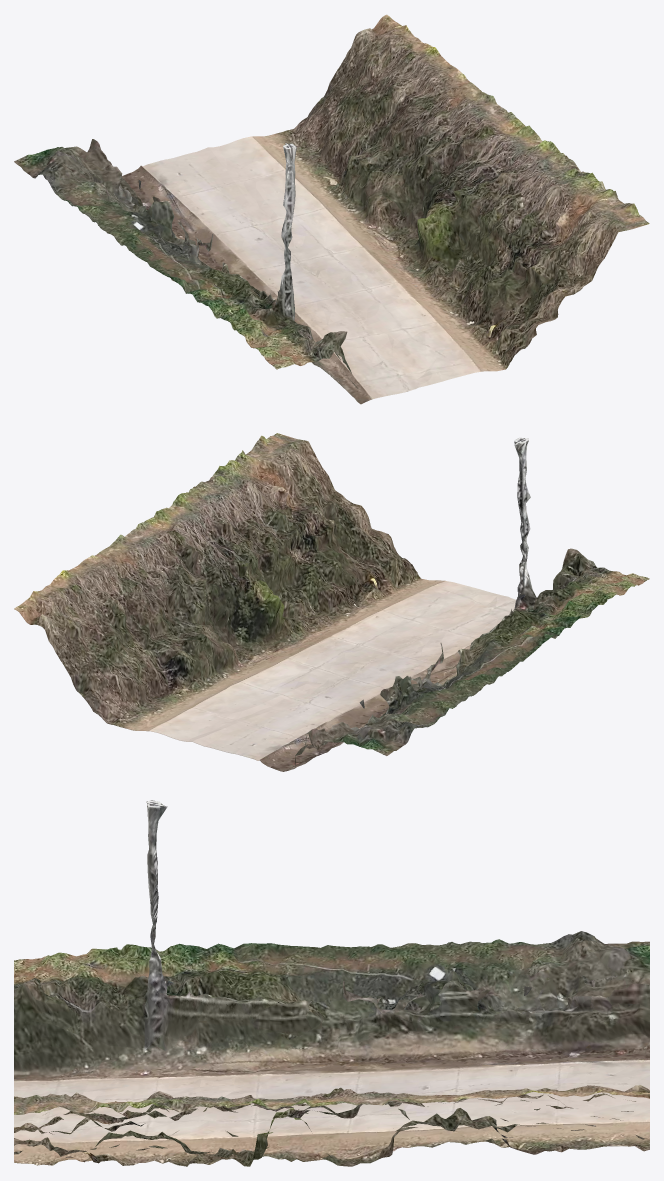
Rendered from BlockBBBY_L21_230.glb.
3 renders of one model, top to bottom at view 1: azimuth 30°, elevation 25°; view 2: azimuth 150°, elevation 25°; view 3: azimuth 270°, elevation 25°, orthographic. The views are drawn at different scales.
Parts seen in each view (by area): view 1: rtc; view 2: rtc; view 3: rtc.
Boxes of the visible parts, x1,y1,x2,y2 form: rtc: (14,14,649,404); rtc: (14,433,649,771); rtc: (14,800,649,1166).
Size of the model in its own units: 15.56 by 8.78 by 19.02.
Materials: 2 (2 with a texture image).
